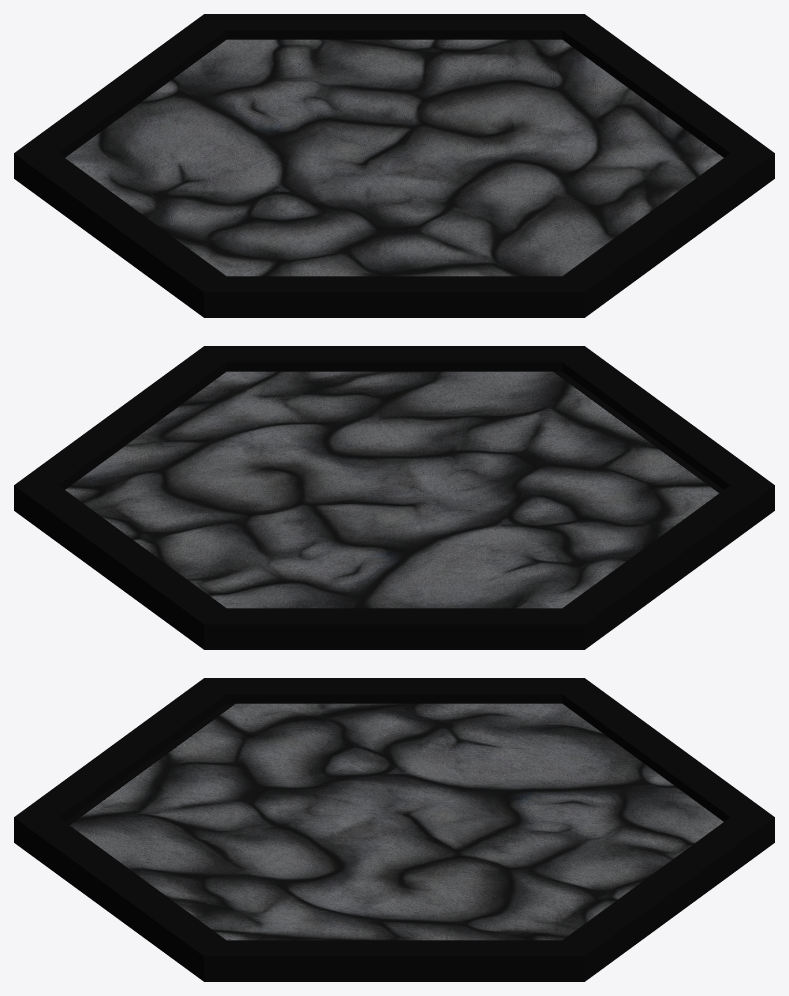
The model's file is Hexagon_new.fbx.
3 renders of one model, top to bottom at view 1: azimuth 30°, elevation 25°; view 2: azimuth 150°, elevation 25°; view 3: azimuth 270°, elevation 25°, orthographic.
Parts seen in each view (by area): view 1: Hexagon; view 2: Hexagon; view 3: Hexagon.
Boxes of the visible parts, x1,y1,x2,y2 form: Hexagon: (14,14,774,317); Hexagon: (14,346,774,649); Hexagon: (14,678,774,981).
Size of the model in its own units: 222 by 9.45 by 256.
Materials: 1 (1 with a texture image).
